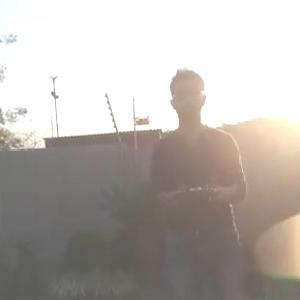follow: (143, 61, 251, 299)
